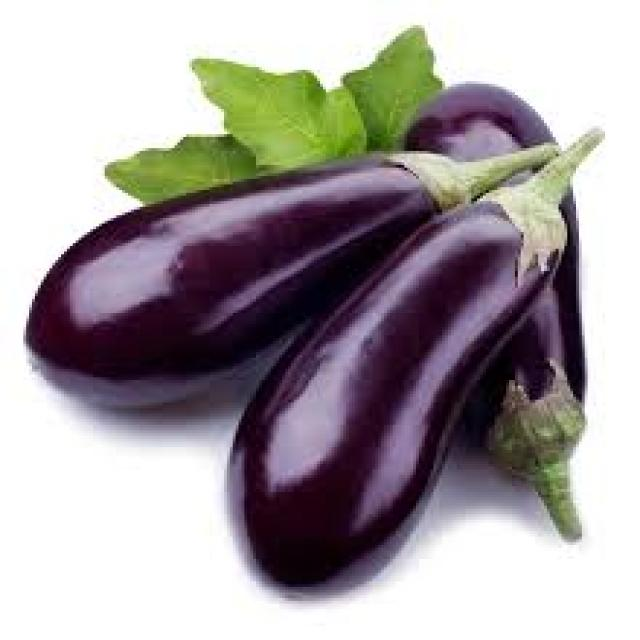organic waste: (224, 123, 602, 595), (23, 140, 547, 413), (396, 81, 584, 537), (102, 19, 439, 196)
